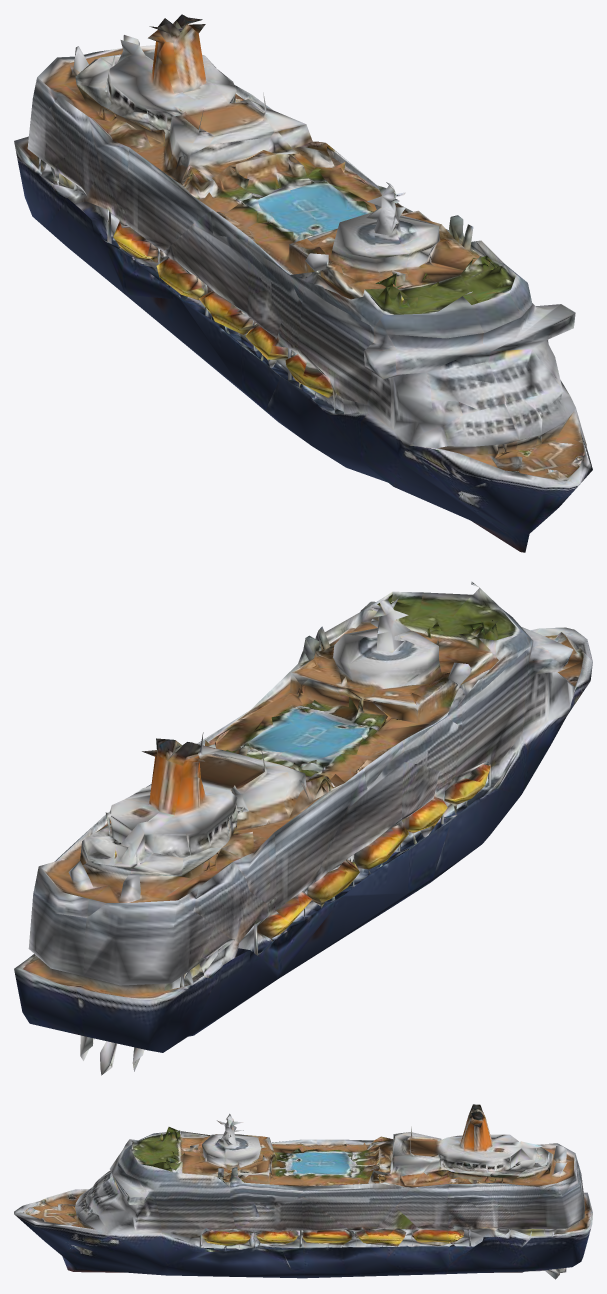
Rendered from cruise.glb.
The picture shows the model from 3 angles, top to bottom: view 1: azimuth 30°, elevation 25°; view 2: azimuth 150°, elevation 25°; view 3: azimuth 270°, elevation 25°; orthographic projection. The views are drawn at different scales.
Visible parts, largest first — view 1: tripo_node_1fd3a27d-0209-4eb7-bb32-5aa6b3dcd747; view 2: tripo_node_1fd3a27d-0209-4eb7-bb32-5aa6b3dcd747; view 3: tripo_node_1fd3a27d-0209-4eb7-bb32-5aa6b3dcd747.
Boxes of the visible parts, x1,y1,x2,y2 form: tripo_node_1fd3a27d-0209-4eb7-bb32-5aa6b3dcd747: [14, 14, 592, 552]; tripo_node_1fd3a27d-0209-4eb7-bb32-5aa6b3dcd747: [14, 581, 592, 1075]; tripo_node_1fd3a27d-0209-4eb7-bb32-5aa6b3dcd747: [14, 1104, 592, 1279].
Bounding box in the file's own units: 0.236 × 0.3143 × 0.9993.
Materials: 1 (1 with a texture image).
